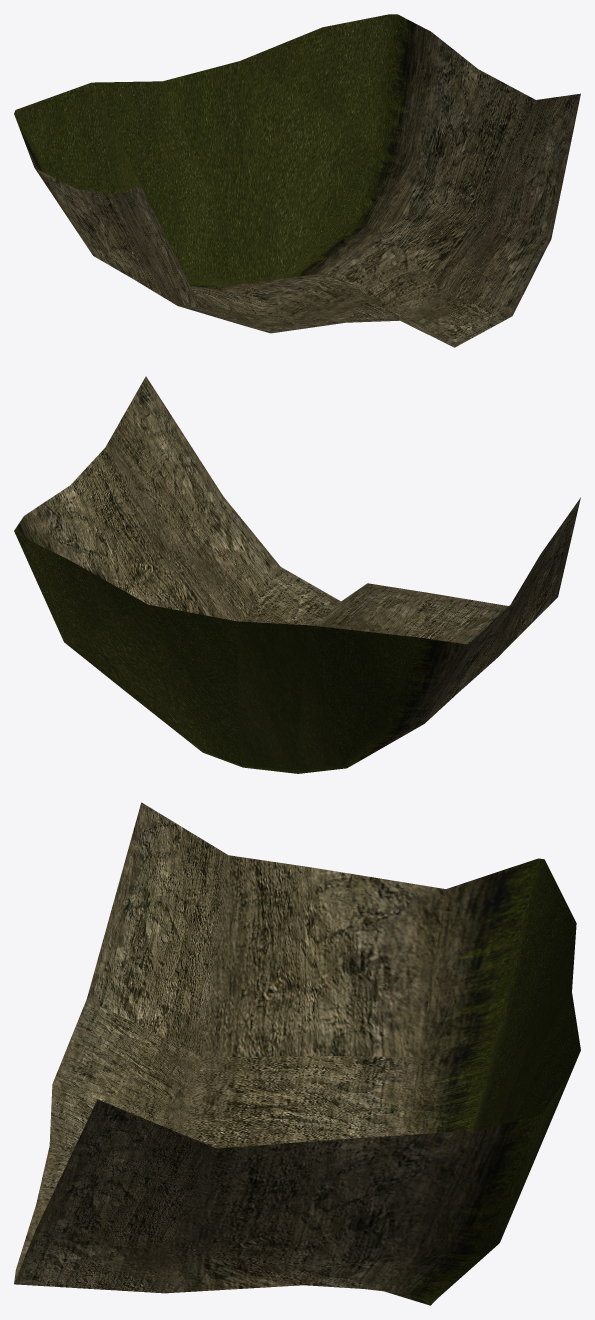
The model's file is MEP_Edge_01_h.fbx.
3 views of the same model, one above another, from view 1: azimuth 30°, elevation 25°; view 2: azimuth 150°, elevation 25°; view 3: azimuth 270°, elevation 25° (orthographic). The views are drawn at different scales.
Parts seen in each view (by area): view 1: MEP_Edge_01_h; view 2: MEP_Edge_01_h; view 3: MEP_Edge_01_h.
Boxes of the visible parts, box(x1,y1,x2,y2) form: MEP_Edge_01_h: box(14, 14, 580, 347); MEP_Edge_01_h: box(14, 376, 580, 773); MEP_Edge_01_h: box(14, 802, 580, 1305).
Bounding box in the file's own units: 56.91 × 29.38 × 45.73.
1 material, 1 textured.
